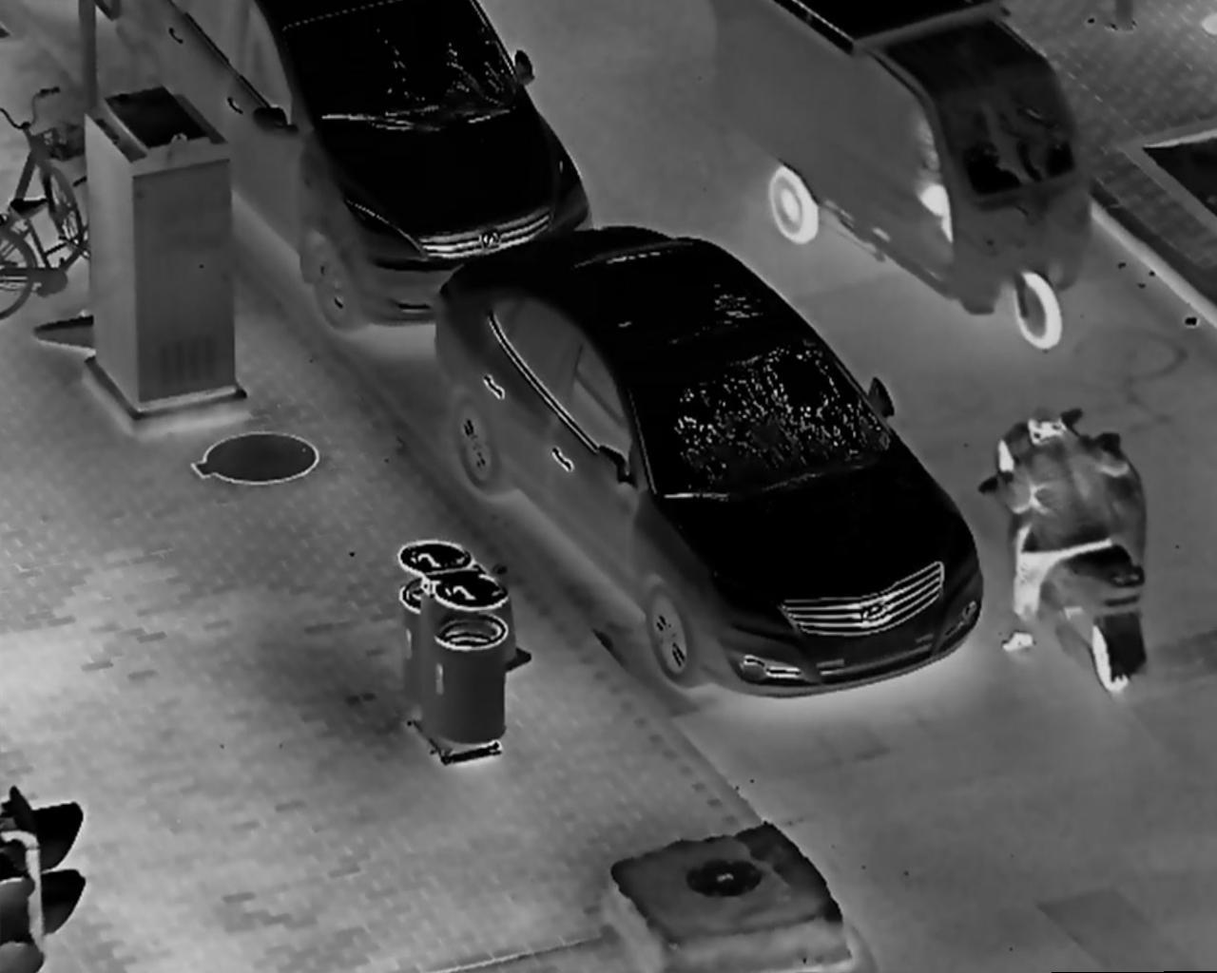person: (989, 406, 1139, 656)
